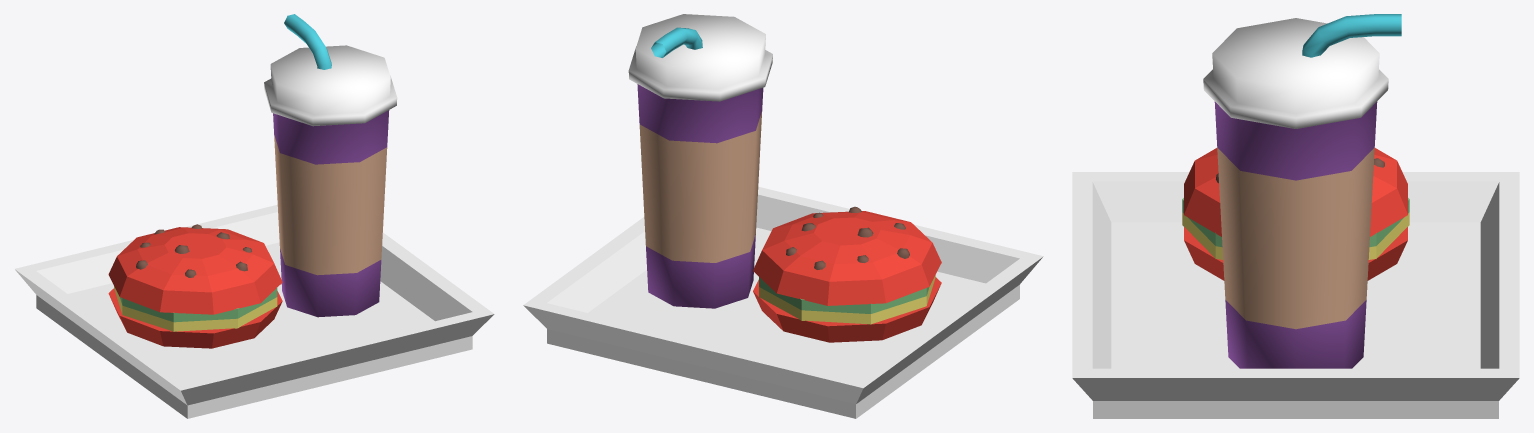
Rendered from Cake 3 combo.fbx.
3 renders of one model, left to right at view 1: azimuth 30°, elevation 25°; view 2: azimuth 150°, elevation 25°; view 3: azimuth 270°, elevation 25°, orthographic. The views are drawn at different scales.
Parts seen in each view (by area): view 1: Cake_3_combo; view 2: Cake_3_combo; view 3: Cake_3_combo.
Part boxes in pixels (x1=…): Cake_3_combo: x1=15, y1=14, x2=494, y2=418; Cake_3_combo: x1=523, y1=14, x2=1043, y2=418; Cake_3_combo: x1=1072, y1=14, x2=1519, y2=418.
Size of the model in its own units: 60.59 by 49.22 by 55.62.
